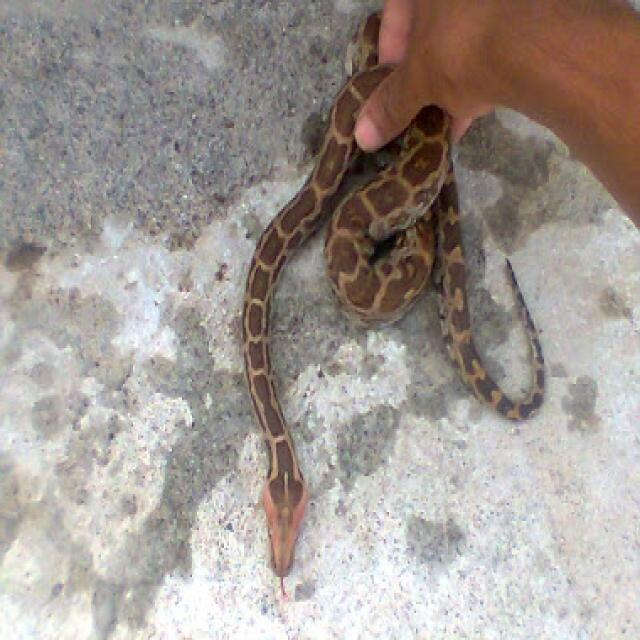Snake: (240, 9, 548, 588)
